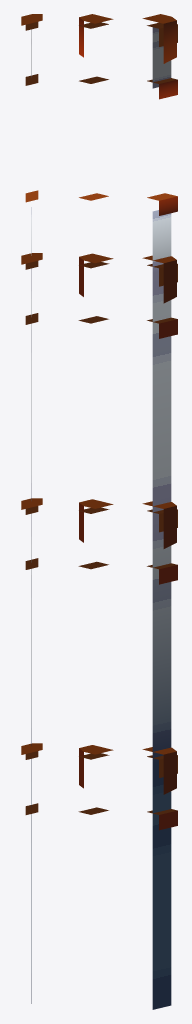
The picture shows the model from 3 angles, left to right: view 1: azimuth 30°, elevation 25°; view 2: azimuth 150°, elevation 25°; view 3: azimuth 330°, elevation 25°; orthographic projection.
Bounding box in the file's own units: 1.2 × 40.25 × 0.6875.
Materials: 2 (2 with a texture image).
